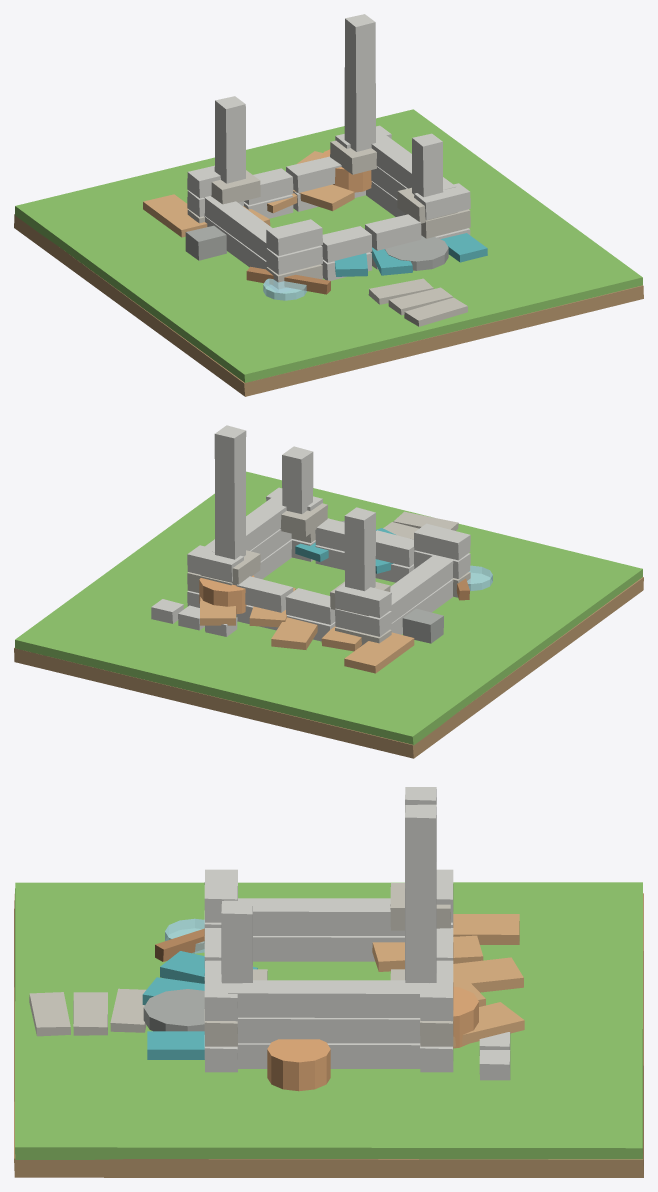
Rendered from tower_l06_ruined_LOD2.glb.
3 renders of one model, top to bottom at view 1: azimuth 30°, elevation 25°; view 2: azimuth 150°, elevation 25°; view 3: azimuth 270°, elevation 25°, orthographic. The views are drawn at different scales.
Parts seen in each view (by area): view 1: tower_l06_grass_tile_tower_l06_ruined_LOD2_tmp, tower_l06_earth_tile_tower_l06_ruined_LOD2_tmp, snapped_upright_0.58_0.52_tower_l06_ruined_LOD2_tmp, snapped_upright_-0.58_0.52_tower_l06_ruined_LOD2_tmp, ruin_stone_return_1_-0.72_tower_l06_ruined_LOD2_tmp, snapped_upright_0.58_-0.52_tower_l06_ruined_LOD2_tmp, ruin_stone_course_2_-1_0_tower_l06_ruined_LOD2_tmp, ruin_stone_return_2_0.72_tower_l06_ruined_LOD2_tmp, ruin_stone_course_1_-1_2_tower_l06_ruined_LOD2_tmp, broken_beacon_crown_tower_l06_ruined_LOD2_tmp, collapsed_deck_0_tower_l06_ruined_LOD2_tmp, ruin_stone_course_1_-1_1_tower_l06_ruined_LOD2_tmp (+24 smaller); view 2: tower_l06_grass_tile_tower_l06_ruined_LOD2_tmp, tower_l06_earth_tile_tower_l06_ruined_LOD2_tmp, snapped_upright_0.58_0.52_tower_l06_ruined_LOD2_tmp, snapped_upright_-0.58_0.52_tower_l06_ruined_LOD2_tmp, ruin_stone_return_1_-0.72_tower_l06_ruined_LOD2_tmp, snapped_upright_0.58_-0.52_tower_l06_ruined_LOD2_tmp, collapsed_deck_0_tower_l06_ruined_LOD2_tmp, ruin_stone_course_2_-1_0_tower_l06_ruined_LOD2_tmp, ruin_stone_return_2_0.72_tower_l06_ruined_LOD2_tmp, ruin_stone_course_2_1_0_tower_l06_ruined_LOD2_tmp, ruin_stone_course_1_1_1_tower_l06_ruined_LOD2_tmp, ruin_stone_course_1_1_2_tower_l06_ruined_LOD2_tmp (+19 smaller); view 3: tower_l06_grass_tile_tower_l06_ruined_LOD2_tmp, tower_l06_earth_tile_tower_l06_ruined_LOD2_tmp, ruin_stone_return_2_0.72_tower_l06_ruined_LOD2_tmp, snapped_upright_0.58_0.52_tower_l06_ruined_LOD2_tmp, ruin_stone_return_1_-0.72_tower_l06_ruined_LOD2_tmp, ruin_stone_return_1_0.72_tower_l06_ruined_LOD2_tmp, ruin_stone_return_0_-0.72_tower_l06_ruined_LOD2_tmp, ruin_stone_return_0_0.72_tower_l06_ruined_LOD2_tmp, fallen_bell_tower_l06_ruined_LOD2_tmp, snapped_upright_0.58_-0.52_tower_l06_ruined_LOD2_tmp, broken_beacon_crown_tower_l06_ruined_LOD2_tmp, collapsed_deck_2_tower_l06_ruined_LOD2_tmp (+25 smaller).
Boxes of the visible parts, box(x1,y1,x2,y2) form: tower_l06_grass_tile_tower_l06_ruined_LOD2_tmp: box(15, 109, 642, 382); tower_l06_earth_tile_tower_l06_ruined_LOD2_tmp: box(14, 214, 643, 396); snapped_upright_0.58_0.52_tower_l06_ruined_LOD2_tmp: box(344, 14, 375, 151); snapped_upright_-0.58_0.52_tower_l06_ruined_LOD2_tmp: box(214, 96, 245, 183); ruin_stone_return_1_-0.72_tower_l06_ruined_LOD2_tmp: box(204, 196, 272, 260); snapped_upright_0.58_-0.52_tower_l06_ruined_LOD2_tmp: box(412, 133, 443, 197); ruin_stone_course_2_-1_0_tower_l06_ruined_LOD2_tmp: box(266, 219, 322, 255); ruin_stone_return_2_0.72_tower_l06_ruined_LOD2_tmp: box(371, 134, 456, 189); ruin_stone_course_1_-1_2_tower_l06_ruined_LOD2_tmp: box(365, 214, 421, 250); broken_beacon_crown_tower_l06_ruined_LOD2_tmp: box(385, 235, 448, 270); collapsed_deck_0_tower_l06_ruined_LOD2_tmp: box(143, 194, 207, 237); ruin_stone_course_1_-1_1_tower_l06_ruined_LOD2_tmp: box(321, 226, 372, 262); tower_l06_grass_tile_tower_l06_ruined_LOD2_tmp: box(15, 471, 642, 745); tower_l06_earth_tile_tower_l06_ruined_LOD2_tmp: box(14, 577, 643, 758); snapped_upright_0.58_0.52_tower_l06_ruined_LOD2_tmp: box(214, 425, 246, 559); snapped_upright_-0.58_0.52_tower_l06_ruined_LOD2_tmp: box(344, 507, 375, 591); ruin_stone_return_1_-0.72_tower_l06_ruined_LOD2_tmp: box(390, 555, 453, 622); snapped_upright_0.58_-0.52_tower_l06_ruined_LOD2_tmp: box(282, 446, 313, 513); collapsed_deck_0_tower_l06_ruined_LOD2_tmp: box(344, 632, 414, 673); ruin_stone_course_2_-1_0_tower_l06_ruined_LOD2_tmp: box(414, 523, 470, 560); ruin_stone_return_2_0.72_tower_l06_ruined_LOD2_tmp: box(205, 495, 286, 552); ruin_stone_course_2_1_0_tower_l06_ruined_LOD2_tmp: box(335, 583, 391, 617); ruin_stone_course_1_1_1_tower_l06_ruined_LOD2_tmp: box(285, 588, 335, 624); ruin_stone_course_1_1_2_tower_l06_ruined_LOD2_tmp: box(236, 576, 293, 612); tower_l06_grass_tile_tower_l06_ruined_LOD2_tmp: box(15, 882, 642, 1159); tower_l06_earth_tile_tower_l06_ruined_LOD2_tmp: box(14, 893, 643, 1177); ruin_stone_return_2_0.72_tower_l06_ruined_LOD2_tmp: box(228, 980, 429, 1017); snapped_upright_0.58_0.52_tower_l06_ruined_LOD2_tmp: box(405, 804, 436, 982); ruin_stone_return_1_-0.72_tower_l06_ruined_LOD2_tmp: box(238, 898, 404, 935); ruin_stone_return_1_0.72_tower_l06_ruined_LOD2_tmp: box(237, 1017, 420, 1043); ruin_stone_return_0_-0.72_tower_l06_ruined_LOD2_tmp: box(253, 936, 404, 961); ruin_stone_return_0_0.72_tower_l06_ruined_LOD2_tmp: box(237, 1043, 420, 1068); fallen_bell_tower_l06_ruined_LOD2_tmp: box(267, 1039, 330, 1091); snapped_upright_0.58_-0.52_tower_l06_ruined_LOD2_tmp: box(221, 900, 252, 983); broken_beacon_crown_tower_l06_ruined_LOD2_tmp: box(143, 989, 204, 1031); collapsed_deck_2_tower_l06_ruined_LOD2_tmp: box(453, 957, 523, 992).
Bounding box in the file's own units: 3.57 × 1.73 × 3.57.
